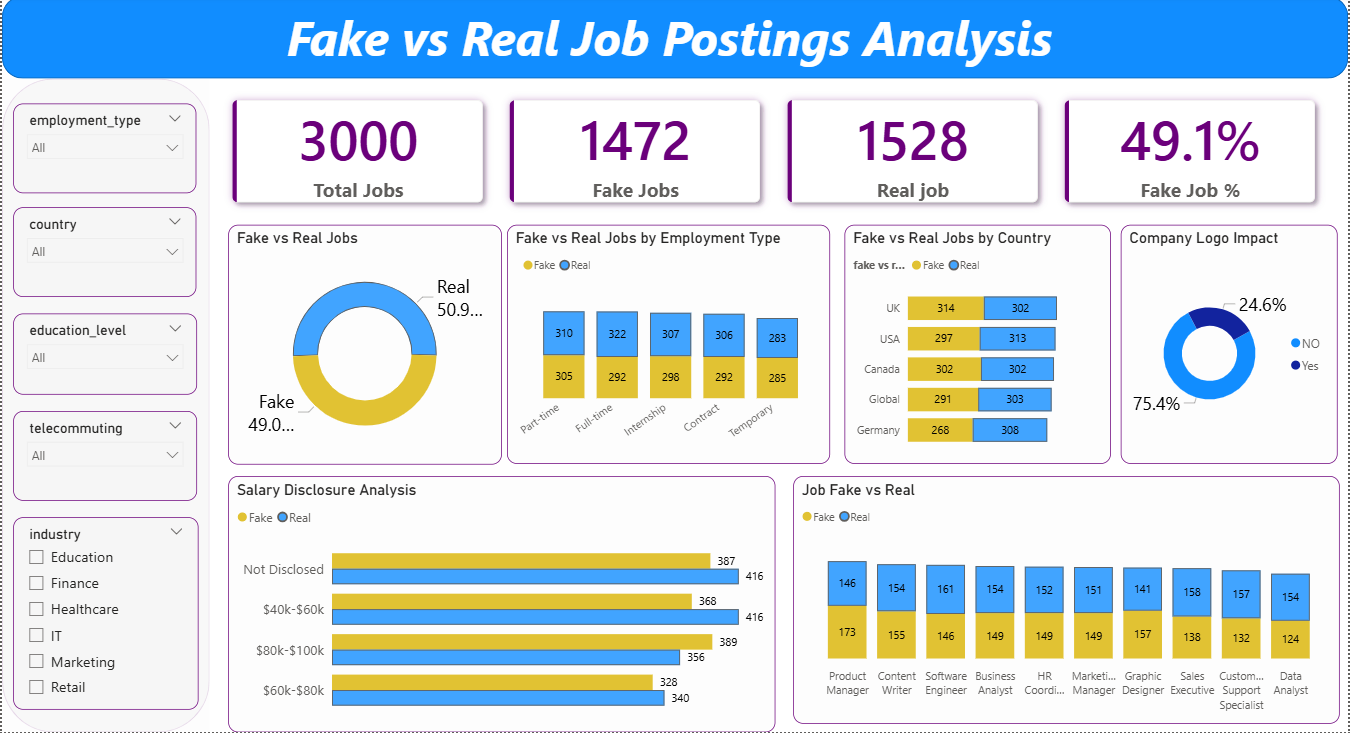

Layout of this report page (visuals, bound fields, positions):
{"tool":"powerbi","page":{"name":"Fake vs Real Job","canvas":[1500,820],"ordinal":0},"visuals":[{"type":"cardVisual","fields":{"Data":["fake_real_job_postings_3000 (2).Total Jobs","fake_real_job_postings_3000 (2).Fake Jobs","fake_real_job_postings_3000 (2).Real job","fake_real_job_postings_3000 (2).Fake Job %"]},"box":[232.6,91.9,1257.6,162.9],"z":0},{"type":"shape","box":[0,0,1499.9,91.9],"z":1000},{"type":"textbox","box":[309.2,4.2,869,82.2],"z":2000},{"type":"donutChart","title":"Fake vs Real Jobs","fields":{"Category":["fake_real_job_postings_3000 (2).fake vs real "],"Y":["fake_real_job_postings_3000 (2).Total Jobs"]},"box":[252.1,254.9,305,267.4],"z":3000},{"type":"barChart","title":"Fake vs Real Jobs by Country","fields":{"Category":["fake_real_job_postings_3000 (2).Country"],"Series":["fake_real_job_postings_3000 (2).fake vs real "],"Y":["CountNonNull(fake_real_job_postings_3000 (2).job_id)"]},"box":[938.3,255,296.7,266.7],"z":4000},{"type":"columnChart","title":"Fake vs Real Jobs by Employment Type","fields":{"Category":["fake_real_job_postings_3000 (2).employment_type"],"Y":["CountNonNull(fake_real_job_postings_3000 (2).job_id)"],"Series":["fake_real_job_postings_3000 (2).fake vs real "]},"box":[563.3,255,360,266.7],"z":5000},{"type":"shape","box":[0,91.4,231.4,728.6],"z":6000},{"type":"slicer","fields":{"Values":["fake_real_job_postings_3000 (2).employment_type"]},"box":[12.9,120,204.3,100],"z":7000},{"type":"slicer","fields":{"Values":["fake_real_job_postings_3000 (2).Country"]},"box":[12.9,235.7,204.3,100],"z":8000},{"type":"slicer","fields":{"Values":["fake_real_job_postings_3000 (2).industry"]},"box":[12.5,580.7,206.1,214.5],"z":9000},{"type":"slicer","fields":{"Values":["fake_real_job_postings_3000 (2).education_level"]},"box":[12.5,353.7,204.7,90.5],"z":10000},{"type":"clusteredBarChart","title":"Salary Disclosure Analysis","fields":{"Category":["fake_real_job_postings_3000 (2).salary_range"],"Series":["fake_real_job_postings_3000 (2).fake vs real "],"Y":["fake_real_job_postings_3000 (2).Total Jobs"]},"box":[252.1,534.8,610,285.5],"z":11000},{"type":"columnChart","title":"Job Fake vs Real","fields":{"Category":["fake_real_job_postings_3000 (2).job_title"],"Series":["fake_real_job_postings_3000 (2).fake vs real "],"Y":["fake_real_job_postings_3000 (2).Total Jobs"]},"box":[881.6,534.8,608.6,275.7],"z":12000},{"type":"donutChart","title":"Company Logo Impact","fields":{"Category":["fake_real_job_postings_3000 (2).logo"],"Y":["fake_real_job_postings_3000 (2).Total Jobs"]},"box":[1246.7,255,241.7,266.7],"z":13000},{"type":"slicer","fields":{"Values":["fake_real_job_postings_3000 (2).telecommuting"]},"box":[12.5,462.4,204.7,100.3],"z":14000}]}

Visuals, with their boxes in screenshot pixels (x1, y1, x2, y2), scaled from the page's 1500x820 canvas onto the 1350x733 screenshot:
cardVisual - fake_real_job_postings_3000 (2).Total Jobs x fake_real_job_postings_3000 (2).Fake Jobs: (209, 82, 1341, 228)
shape: (0, 0, 1349, 82)
textbox: (278, 4, 1060, 77)
"Fake vs Real Jobs" donutChart: (227, 228, 501, 467)
"Fake vs Real Jobs by Country" barChart: (844, 228, 1112, 466)
"Fake vs Real Jobs by Employment Type" columnChart: (507, 228, 831, 466)
shape: (0, 82, 208, 732)
slicer - fake_real_job_postings_3000 (2).employment_type: (12, 107, 195, 197)
slicer - fake_real_job_postings_3000 (2).Country: (12, 211, 195, 300)
slicer - fake_real_job_postings_3000 (2).industry: (11, 519, 197, 711)
slicer - fake_real_job_postings_3000 (2).education_level: (11, 316, 195, 397)
"Salary Disclosure Analysis" clusteredBarChart: (227, 478, 776, 732)
"Job Fake vs Real" columnChart: (793, 478, 1341, 725)
"Company Logo Impact" donutChart: (1122, 228, 1340, 466)
slicer - fake_real_job_postings_3000 (2).telecommuting: (11, 413, 195, 503)
